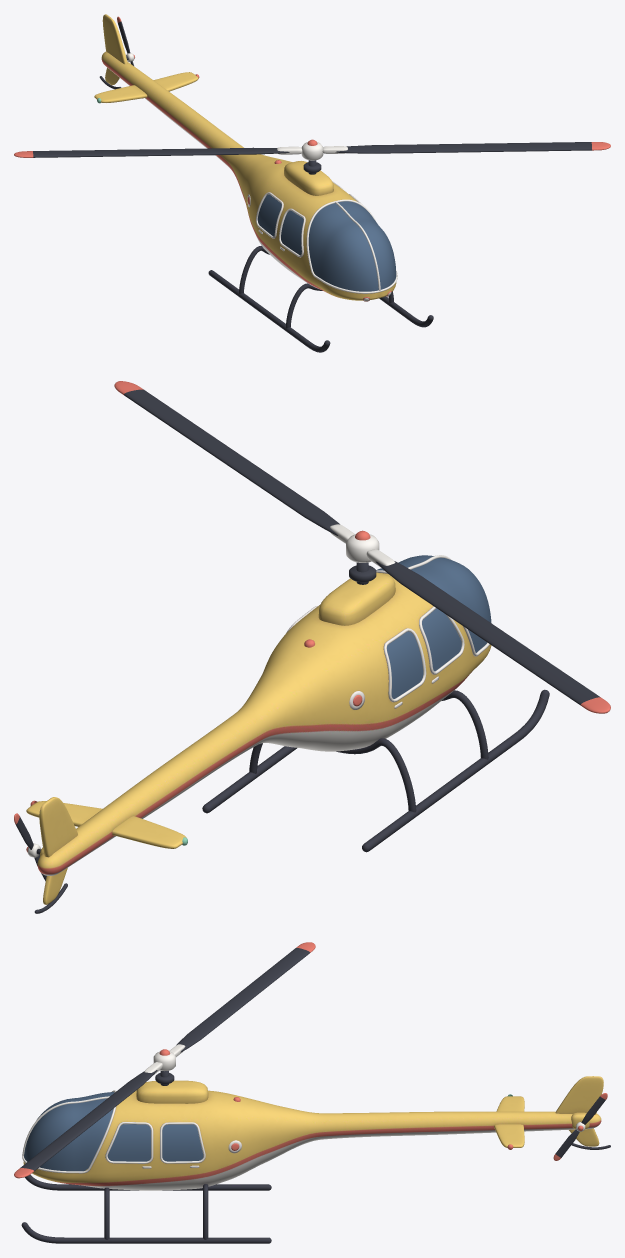
File: raf-helicopter.glb
3 renders of one model, top to bottom at view 1: azimuth 30°, elevation 25°; view 2: azimuth 150°, elevation 25°; view 3: azimuth 270°, elevation 25°, orthographic. The views are drawn at different scales.
Visible parts, largest first — view 1: helicopter_body, helicopter_windows, helicopter_main_rotor; view 2: helicopter_body, helicopter_main_rotor, helicopter_windows; view 3: helicopter_body, helicopter_windows, helicopter_main_rotor, helicopter_tail_rotor.
Boxes of the visible parts, x1,y1,x2,y2 form: helicopter_body: [94, 14, 433, 352]; helicopter_windows: [257, 194, 396, 291]; helicopter_main_rotor: [14, 139, 610, 174]; helicopter_body: [26, 555, 549, 913]; helicopter_main_rotor: [114, 381, 610, 713]; helicopter_windows: [376, 555, 491, 698]; helicopter_body: [21, 1076, 610, 1243]; helicopter_windows: [24, 1092, 203, 1171]; helicopter_main_rotor: [14, 942, 315, 1178]; helicopter_tail_rotor: [553, 1093, 607, 1160].
Bounding box in the file's own units: 8.85 × 2.93 × 9.5.
Materials: 13 (1 with a texture image).
